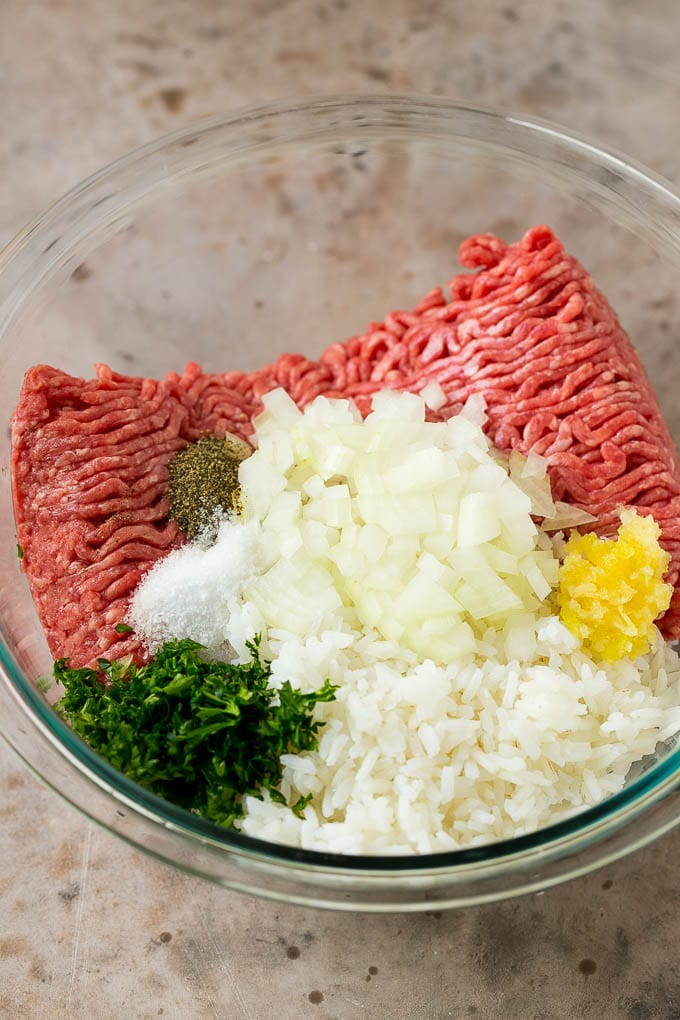ground_beef: (320, 272, 679, 584), (6, 361, 232, 665)
